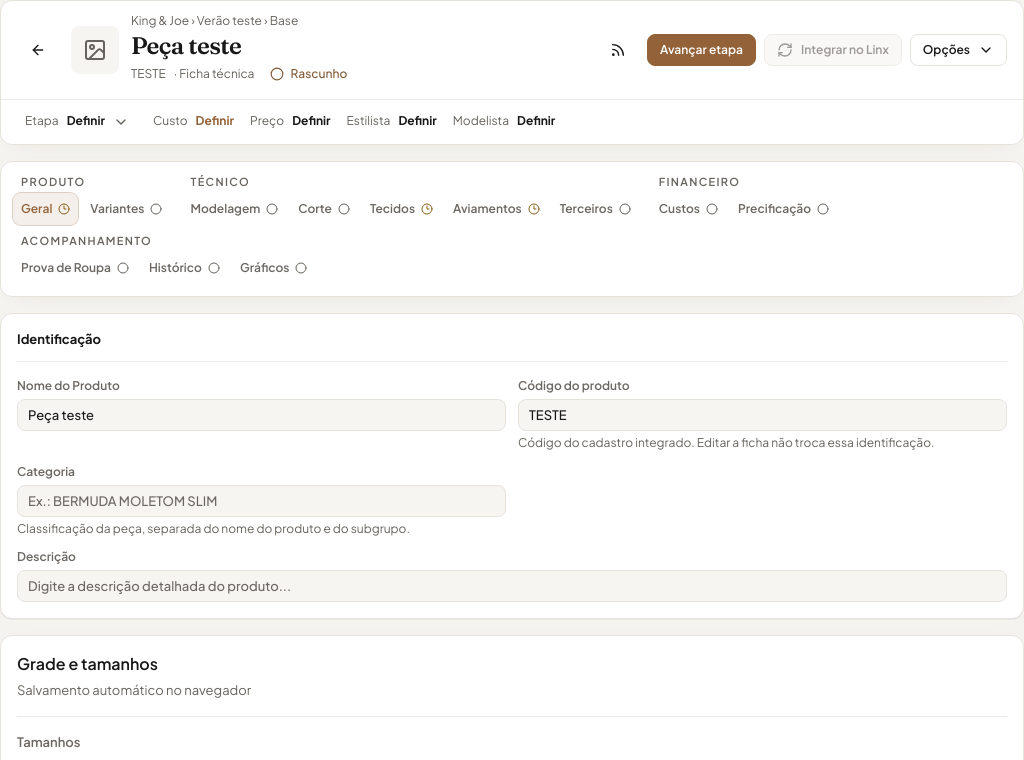
Carregamento da ficha atual nos menus › nova coleção não busca fichas antigas do código no Linx
Click the button "Histórico": (184, 268) x1=141 y1=252 x2=228 y2=284
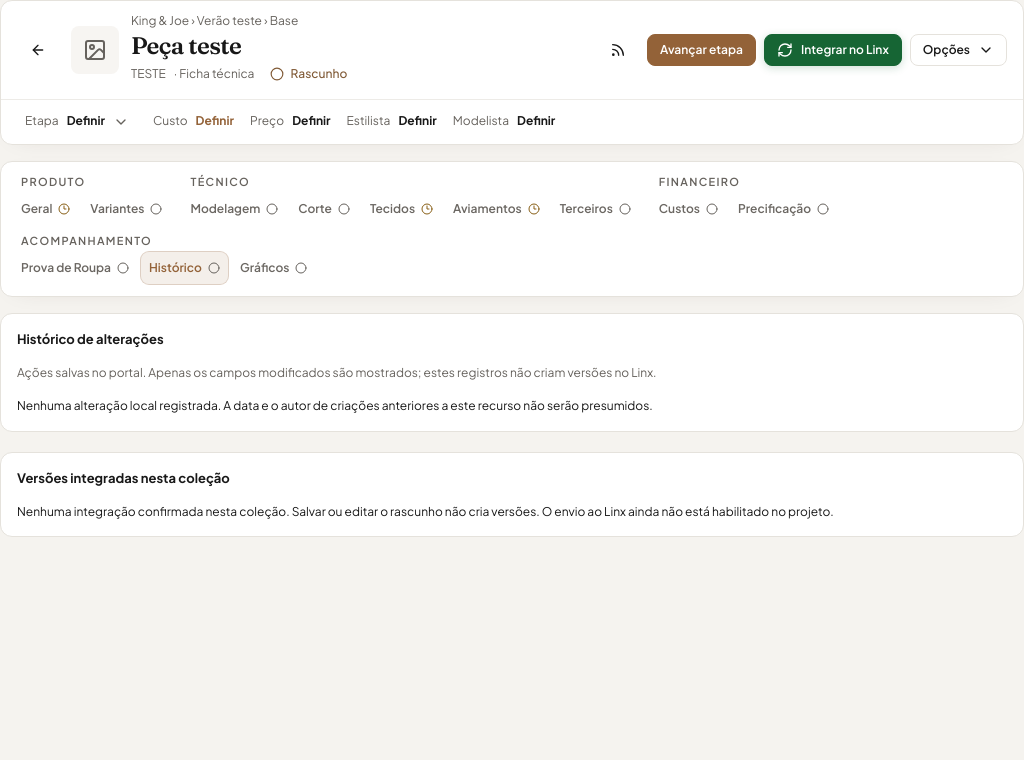
Now the text "Nenhuma integração confirmada nesta coleção" is shown, box x1=17 y1=504 x2=834 y2=519
